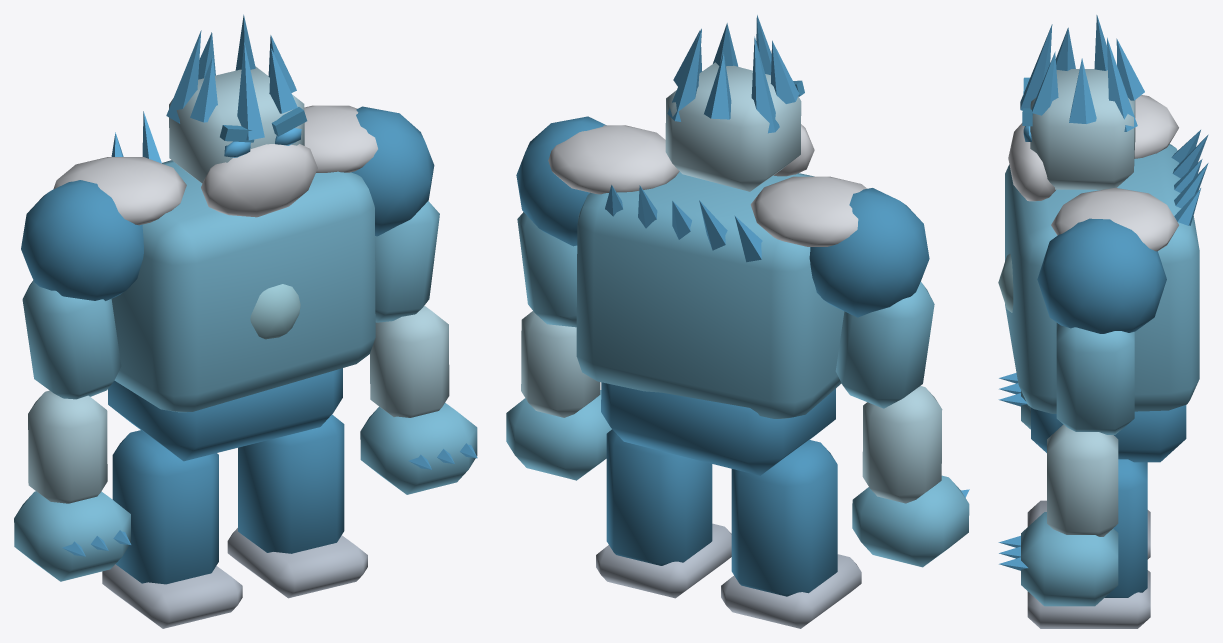
The model's file is e_boss_eis.glb.
3 views of the same model, side by side, from view 1: azimuth 30°, elevation 25°; view 2: azimuth 150°, elevation 25°; view 3: azimuth 270°, elevation 25° (orthographic).
Parts seen in each view (by area): view 1: torso, arm_r, head, leg_r, leg_l, fore_r, fore_l, arm_l, core_glow, eyes_glow; view 2: torso, arm_r, leg_r, head, leg_l, fore_r, fore_l, arm_l; view 3: torso, arm_l, head, fore_l, leg_l, fore_r, core_glow, leg_r.
Boxes of the visible parts, <box> form: torso: <box>53,105,377,461</box>; arm_r: <box>21,180,143,399</box>; head: <box>166,14,317,217</box>; leg_r: <box>102,430,242,628</box>; leg_l: <box>227,414,367,598</box>; fore_r: <box>14,390,131,581</box>; fore_l: <box>360,306,477,494</box>; arm_l: <box>351,106,439,322</box>; core_glow: <box>250,284,300,339</box>; eyes_glow: <box>224,128,301,157</box>; torso: <box>548,125,866,475</box>; arm_r: <box>809,188,934,408</box>; leg_r: <box>721,439,861,628</box>; head: <box>665,15,814,191</box>; leg_l: <box>596,429,731,598</box>; fore_r: <box>852,386,969,567</box>; fore_l: <box>506,311,611,480</box>; arm_l: <box>516,116,606,327</box>; torso: <box>1005,95,1208,462</box>; arm_l: <box>1037,218,1166,434</box>; head: <box>1008,15,1144,201</box>; fore_l: <box>998,424,1118,606</box>; leg_l: <box>1027,459,1150,628</box>; fore_r: <box>998,373,1030,429</box>; core_glow: <box>998,254,1013,312</box>; leg_r: <box>1027,500,1150,559</box>.
Bounding box in the file's own units: 3.84 × 4.72 × 1.62.
